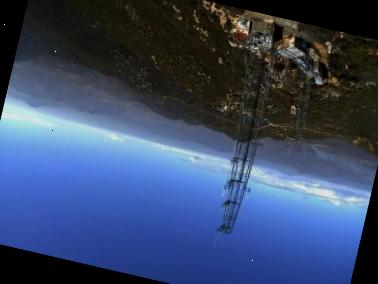smoke: (302, 141, 378, 183)
